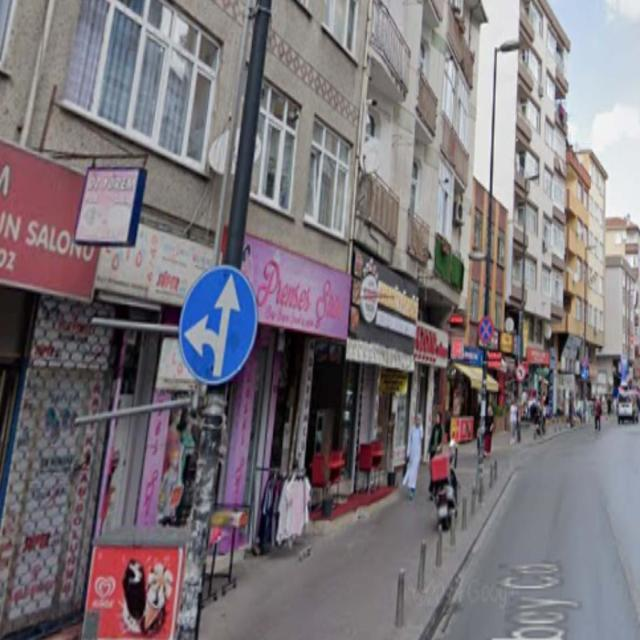ilerisol: (180, 266, 257, 384)
